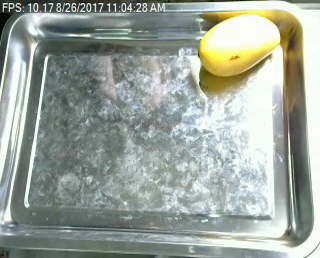Mango: (198, 14, 286, 85)
